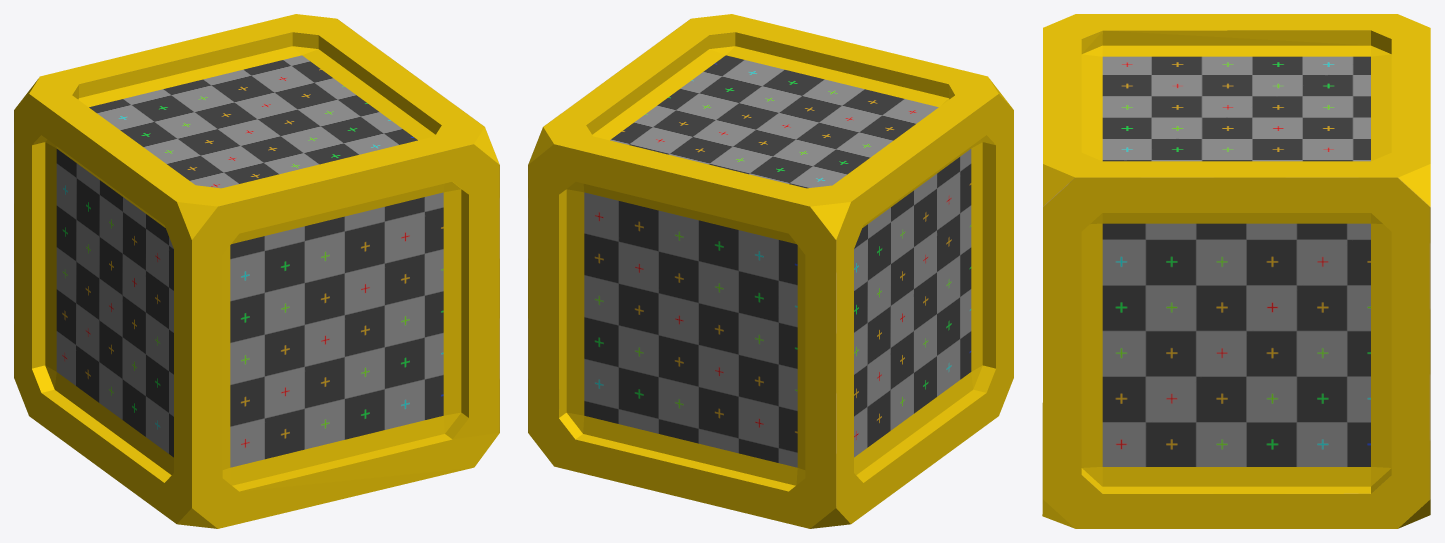
Rendered from Cube_Word_RaidersP.obj.
3 renders of one model, left to right at view 1: azimuth 30°, elevation 25°; view 2: azimuth 150°, elevation 25°; view 3: azimuth 270°, elevation 25°, orthographic. The views are drawn at different scales.
Visible parts, largest first — view 1: Cube_Cube.001; view 2: Cube_Cube.001; view 3: Cube_Cube.001.
Boxes of the visible parts, left/top/right/bottom form: Cube_Cube.001: left=14, top=14, right=499, bottom=528; Cube_Cube.001: left=528, top=14, right=1013, bottom=528; Cube_Cube.001: left=1042, top=14, right=1430, bottom=528.
Size of the model in its own units: 2 by 2.01 by 2.
1 material, 1 textured.
